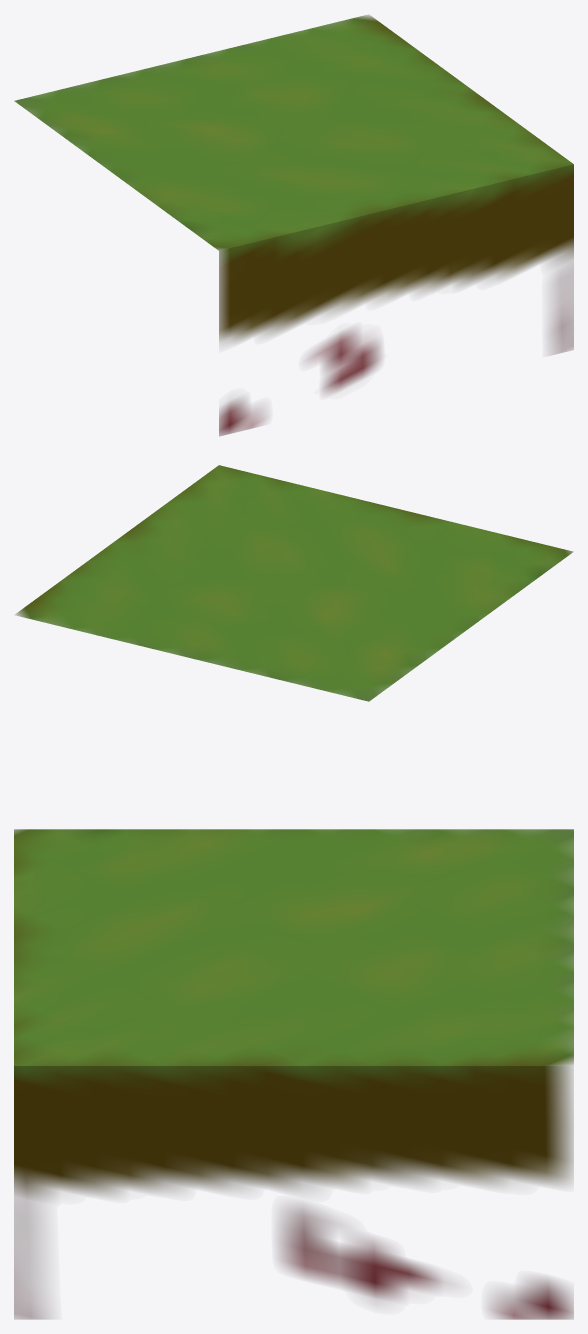
File: tile.glb
3 views of the same model, one above another, from view 1: azimuth 30°, elevation 25°; view 2: azimuth 150°, elevation 25°; view 3: azimuth 270°, elevation 25° (orthographic). The views are drawn at different scales.
Parts seen in each view (by area): view 1: Cube; view 2: Cube; view 3: Cube.
Boxes of the visible parts, x1=… form: Cube: x1=14, y1=15, x2=573, y2=436; Cube: x1=15, y1=465, x2=573, y2=701; Cube: x1=14, y1=829, x2=573, y2=1319.
Bounding box in the file's own units: 2 × 1 × 2.
Materials: 1 (1 with a texture image).
